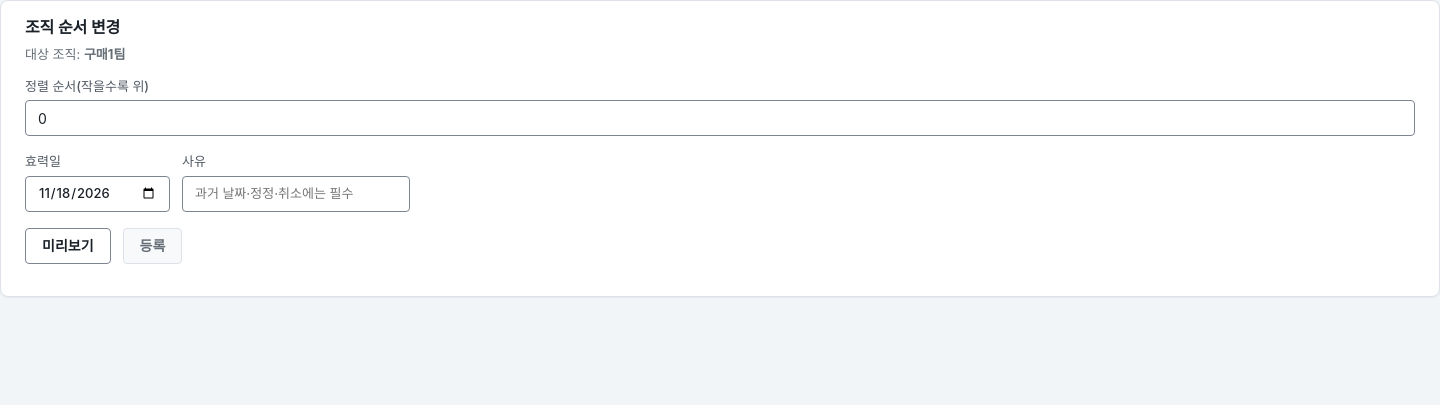
Scenario: 조직 변경 폼 › 미리보기를 보기 전에는 등록 버튼이 꺼져 있고, 입력을 바꾸면 다시 꺼진다(AC-95)
Expected: the button "등록" is disabled, [122,228,182,264]
Click the button "미리보기".
click(68, 246)  # box [25,228,110,264]
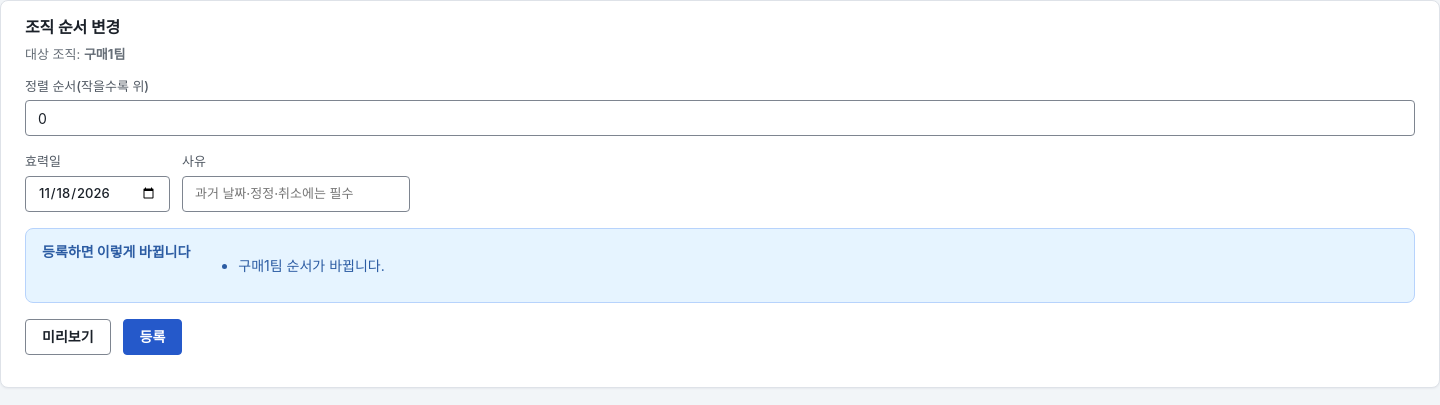
Expected: the list item "구매1팀 순서가 바뀝니다." is shown, [238,254,385,276]
Expected: the button "등록" is enabled, [122,318,182,354]
Replace the text in the number field labelled "정렬 순서(작을수록 위)" with "7" at (720, 118), box [25,100,1415,136]
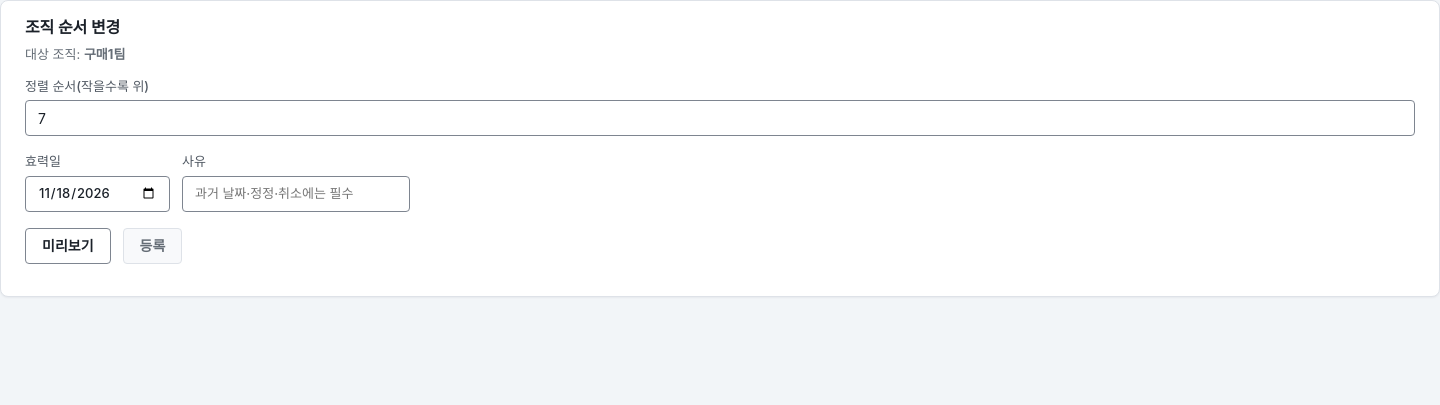
Expected: the button "등록" is disabled, [122,228,182,264]
